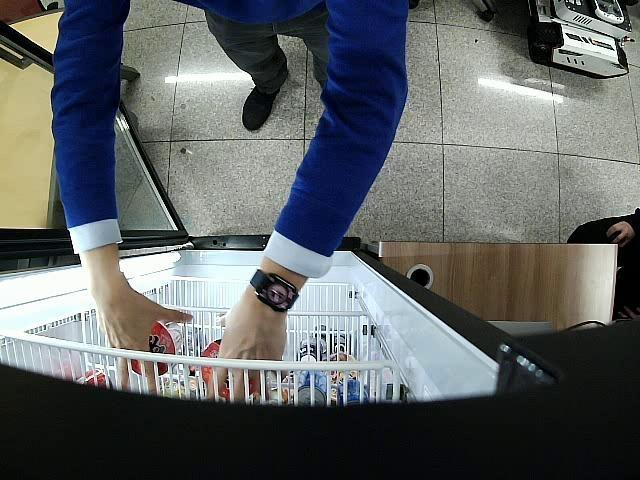02_shinRamen_S: (200, 339, 256, 398), (130, 320, 184, 378)
